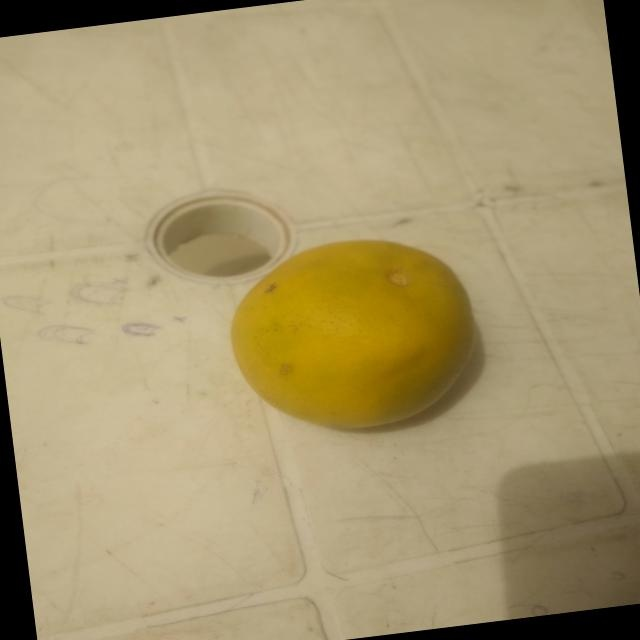agrume: (215, 217, 489, 450)
